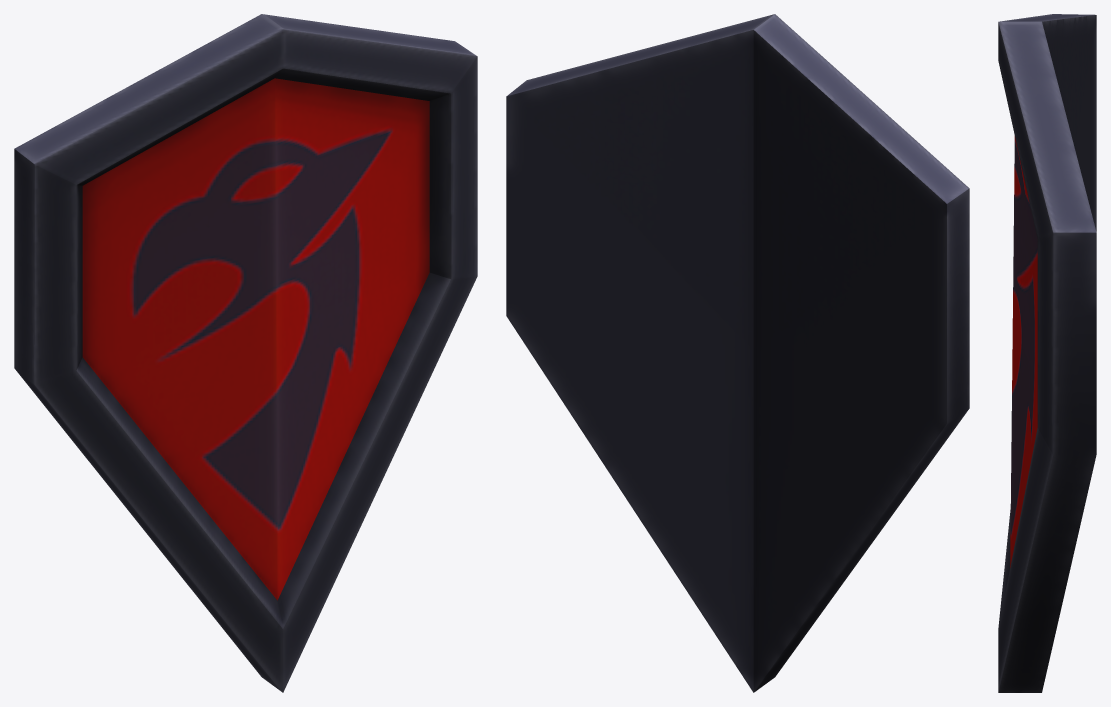
File: DarkBlade_Shield_Projectile.FBX
3 views of the same model, side by side, from view 1: azimuth 30°, elevation 25°; view 2: azimuth 150°, elevation 25°; view 3: azimuth 270°, elevation 25° (orthographic).
Visible parts, largest first — view 1: DarkBlade_Shield_Projectile; view 2: DarkBlade_Shield_Projectile; view 3: DarkBlade_Shield_Projectile.
Part boxes in pixels (x1=…): DarkBlade_Shield_Projectile: x1=14, y1=14, x2=477, y2=692; DarkBlade_Shield_Projectile: x1=506, y1=14, x2=969, y2=692; DarkBlade_Shield_Projectile: x1=998, y1=14, x2=1096, y2=692.
Size of the model in its own units: 10.22 by 14.62 by 1.94.
